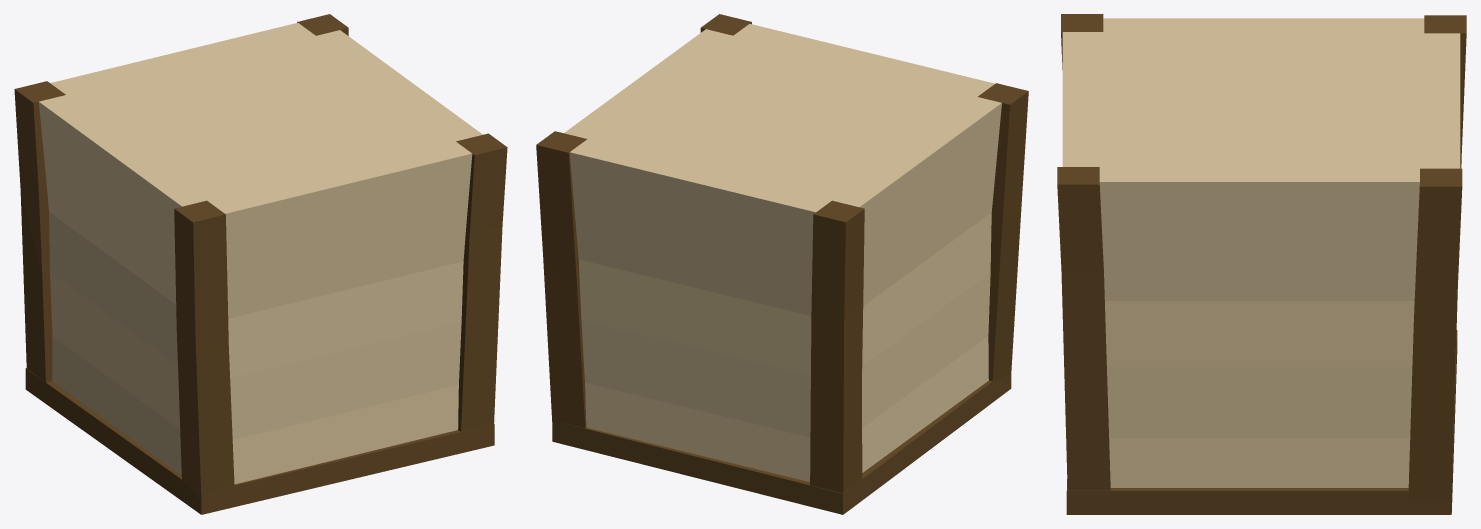
File: SmallHouse_01.fbx
3 views of the same model, side by side, from view 1: azimuth 30°, elevation 25°; view 2: azimuth 150°, elevation 25°; view 3: azimuth 270°, elevation 25° (orthographic). The views are drawn at different scales.
Visible parts, largest first — view 1: SmallHouse_01; view 2: SmallHouse_01; view 3: SmallHouse_01.
Part boxes in pixels (x1,y1,x2,y2): SmallHouse_01: (14,14,507,514); SmallHouse_01: (536,14,1028,514); SmallHouse_01: (1057,14,1466,514).
Bounding box in the file's own units: 3.03 × 2.74 × 3.04.
